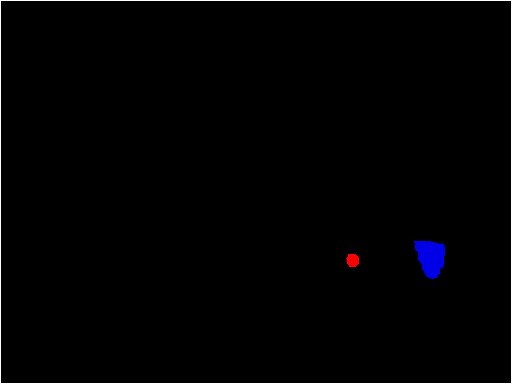chipped: (418, 246, 442, 273)
detached: (343, 252, 361, 267)
